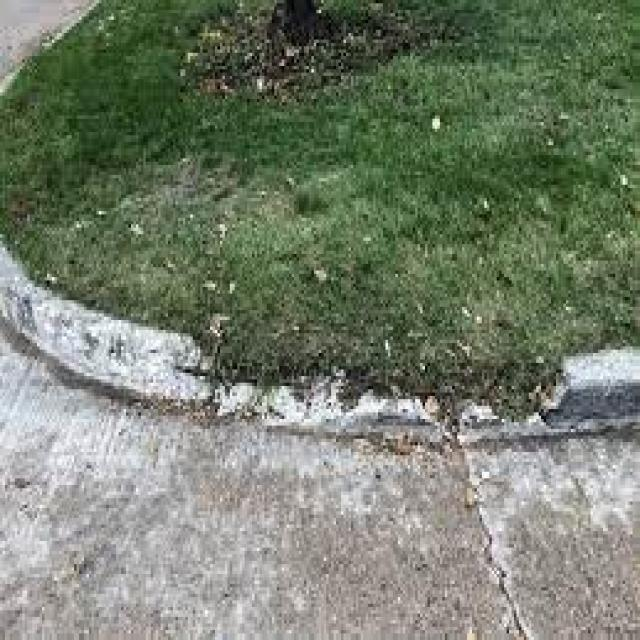curb: (1, 248, 218, 404), (455, 358, 632, 449), (214, 374, 441, 440)
